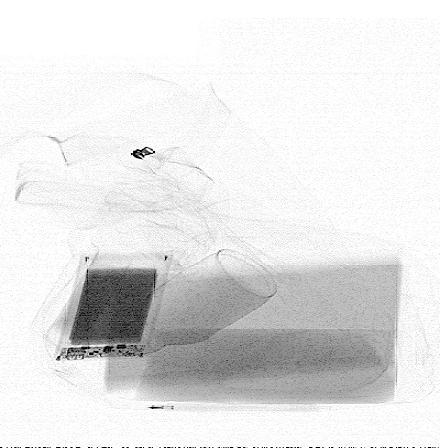Powerbank: (54, 254, 173, 359)
